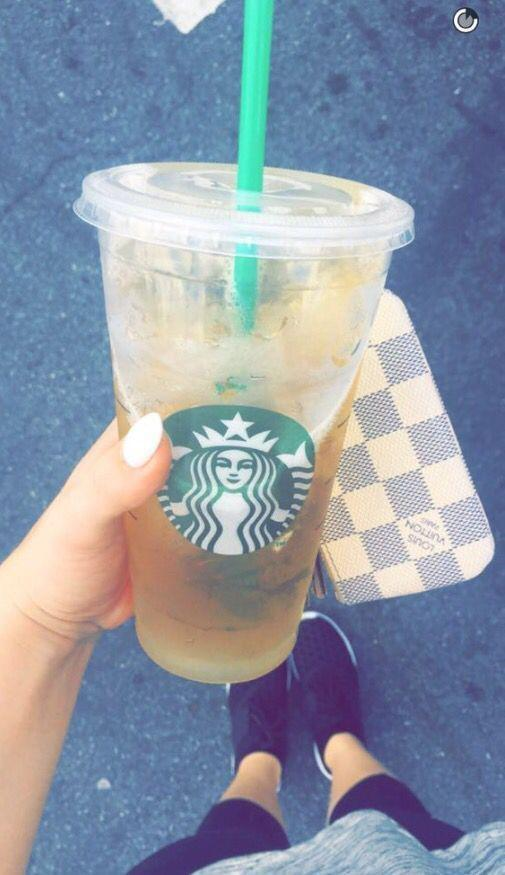cup-disposable: (70, 165, 413, 686)
